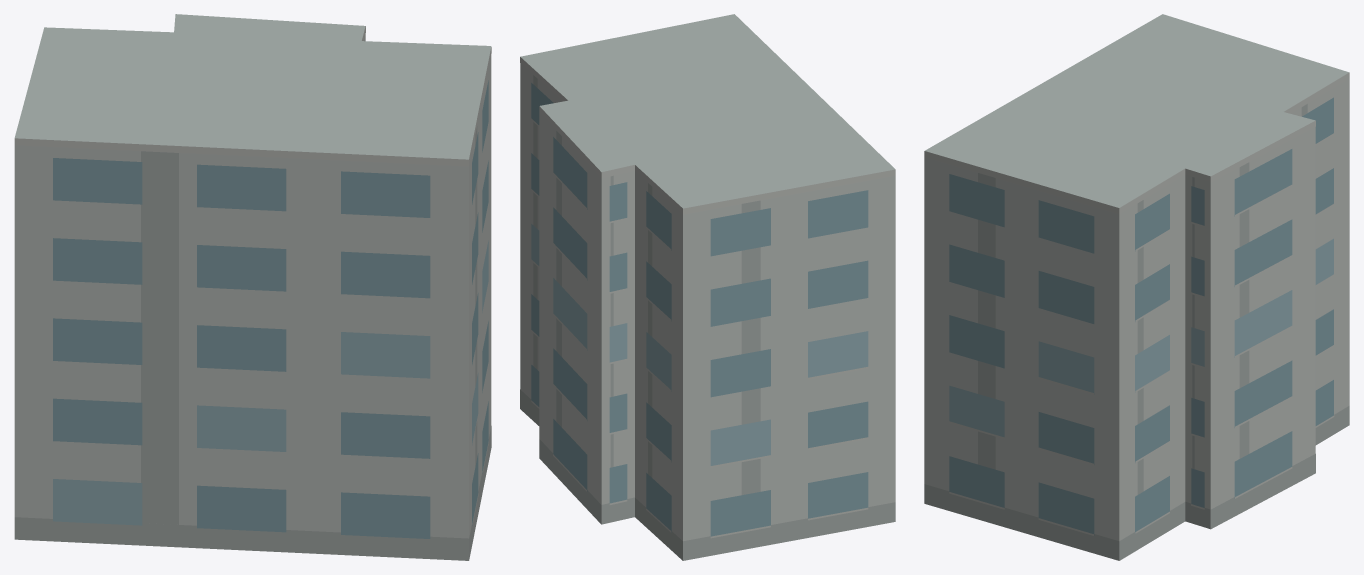
The model's file is survey-upis-33032568.glb.
The picture shows the model from 3 angles, left to right: view 1: azimuth 30°, elevation 25°; view 2: azimuth 150°, elevation 25°; view 3: azimuth 270°, elevation 25°; orthographic projection. The views are drawn at different scales.
Parts seen in each view (by area): view 1: survey-upis-33032568.tmp; view 2: survey-upis-33032568.tmp; view 3: survey-upis-33032568.tmp.
Boxes of the visible parts, x1,y1,x2,y2 form: survey-upis-33032568.tmp: [14, 14, 491, 560]; survey-upis-33032568.tmp: [520, 14, 895, 560]; survey-upis-33032568.tmp: [924, 14, 1349, 560].
Bounding box in the file's own units: 16.41 × 13.9 × 15.19.
